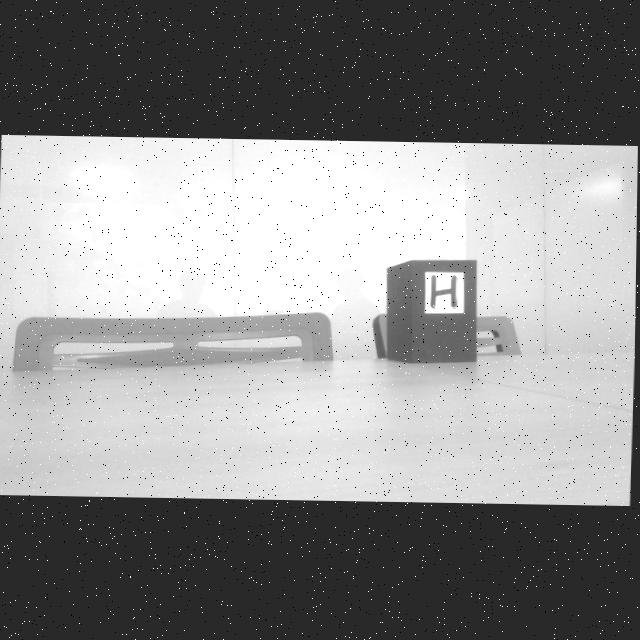H: (432, 275, 458, 307)
